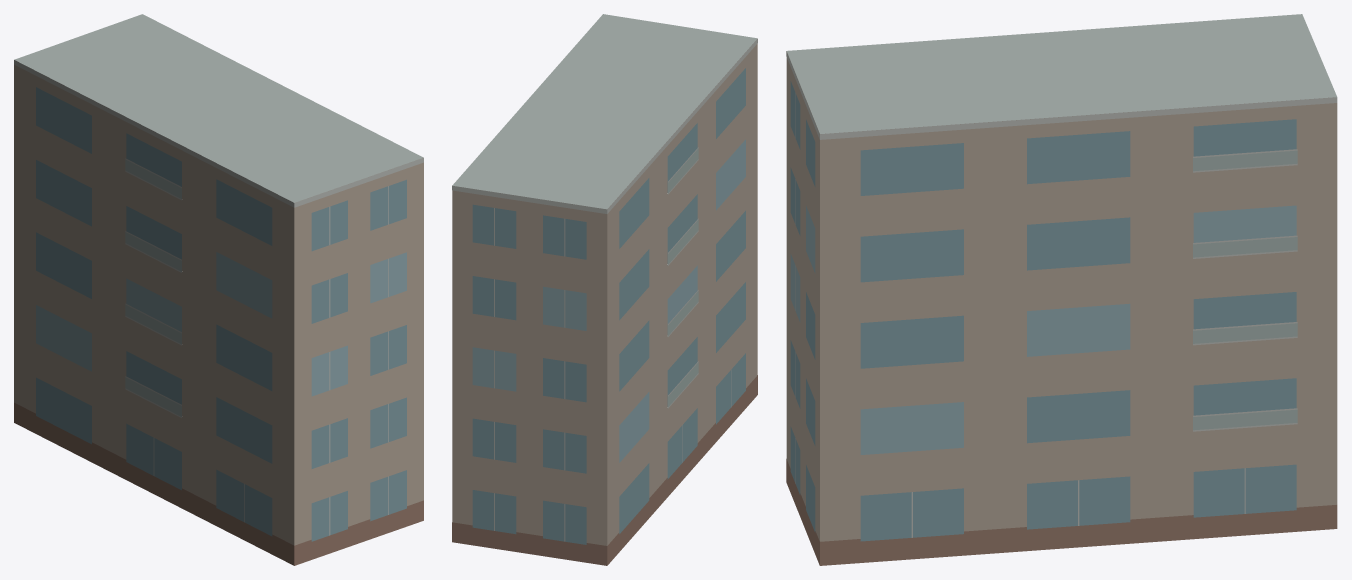
File: survey-upis-32737776.glb
3 renders of one model, left to right at view 1: azimuth 30°, elevation 25°; view 2: azimuth 150°, elevation 25°; view 3: azimuth 270°, elevation 25°, orthographic. The views are drawn at different scales.
Visible parts, largest first — view 1: survey-upis-32737776.tmp; view 2: survey-upis-32737776.tmp; view 3: survey-upis-32737776.tmp.
Boxes of the visible parts, x1,y1,x2,y2 form: survey-upis-32737776.tmp: [14, 14, 423, 565]; survey-upis-32737776.tmp: [452, 14, 757, 565]; survey-upis-32737776.tmp: [786, 14, 1337, 565].
Size of the model in its own units: 10.87 by 18.2 by 21.05.
